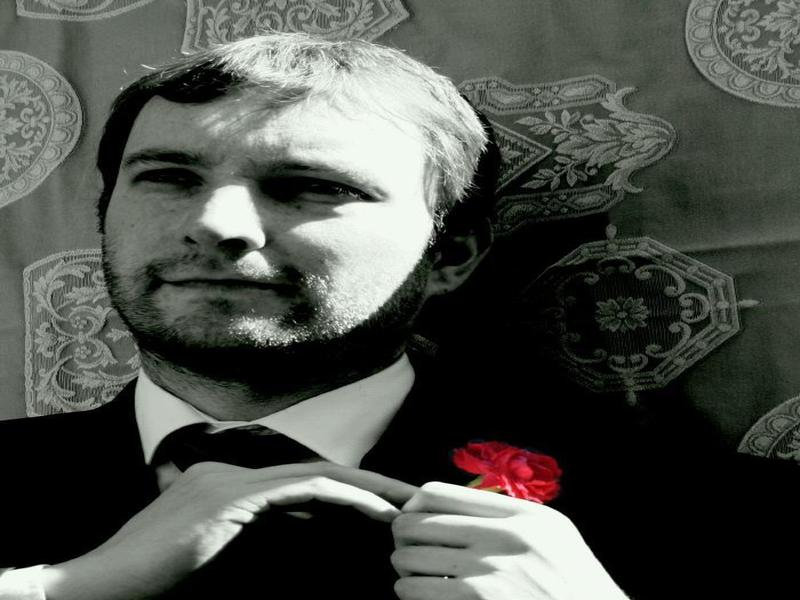person: (1, 31, 637, 598)
